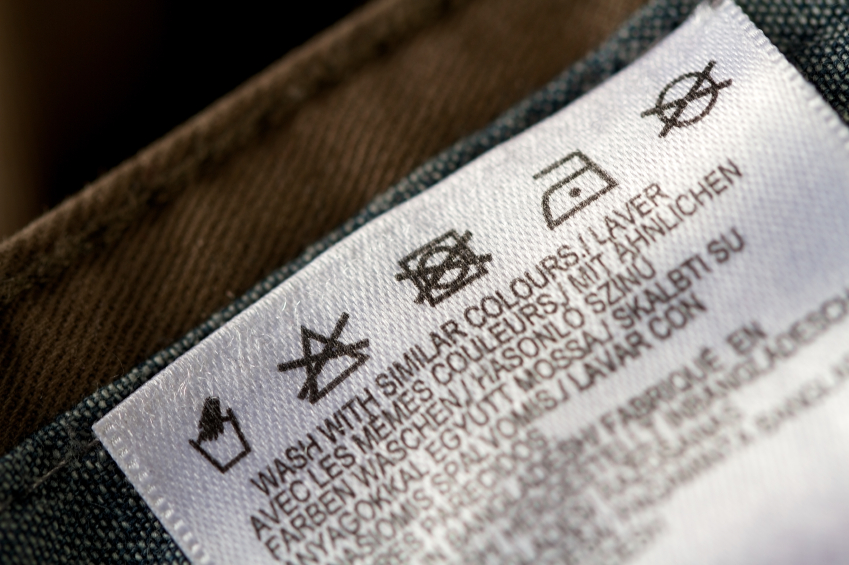do_not_dry_clean: (655, 71, 720, 128)
